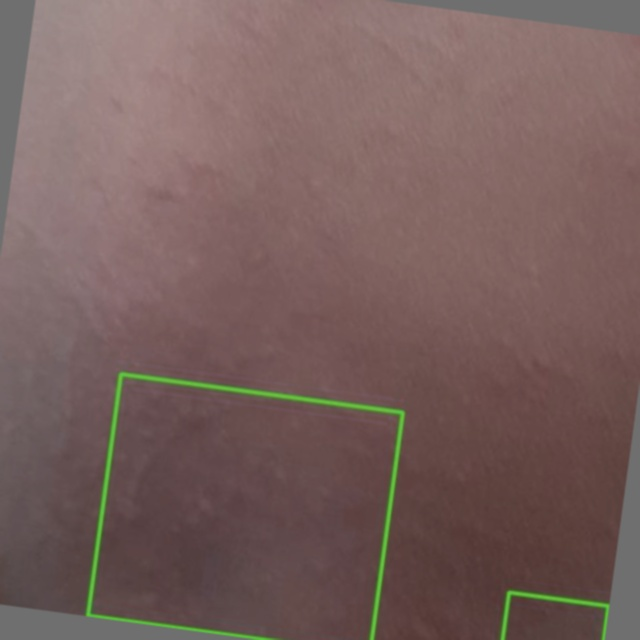Atopic Dermatitis: (87, 374, 402, 639)
